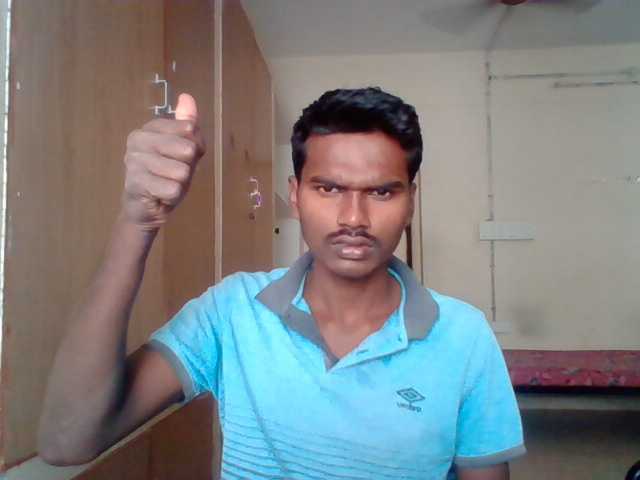Yes: (118, 91, 208, 236)
